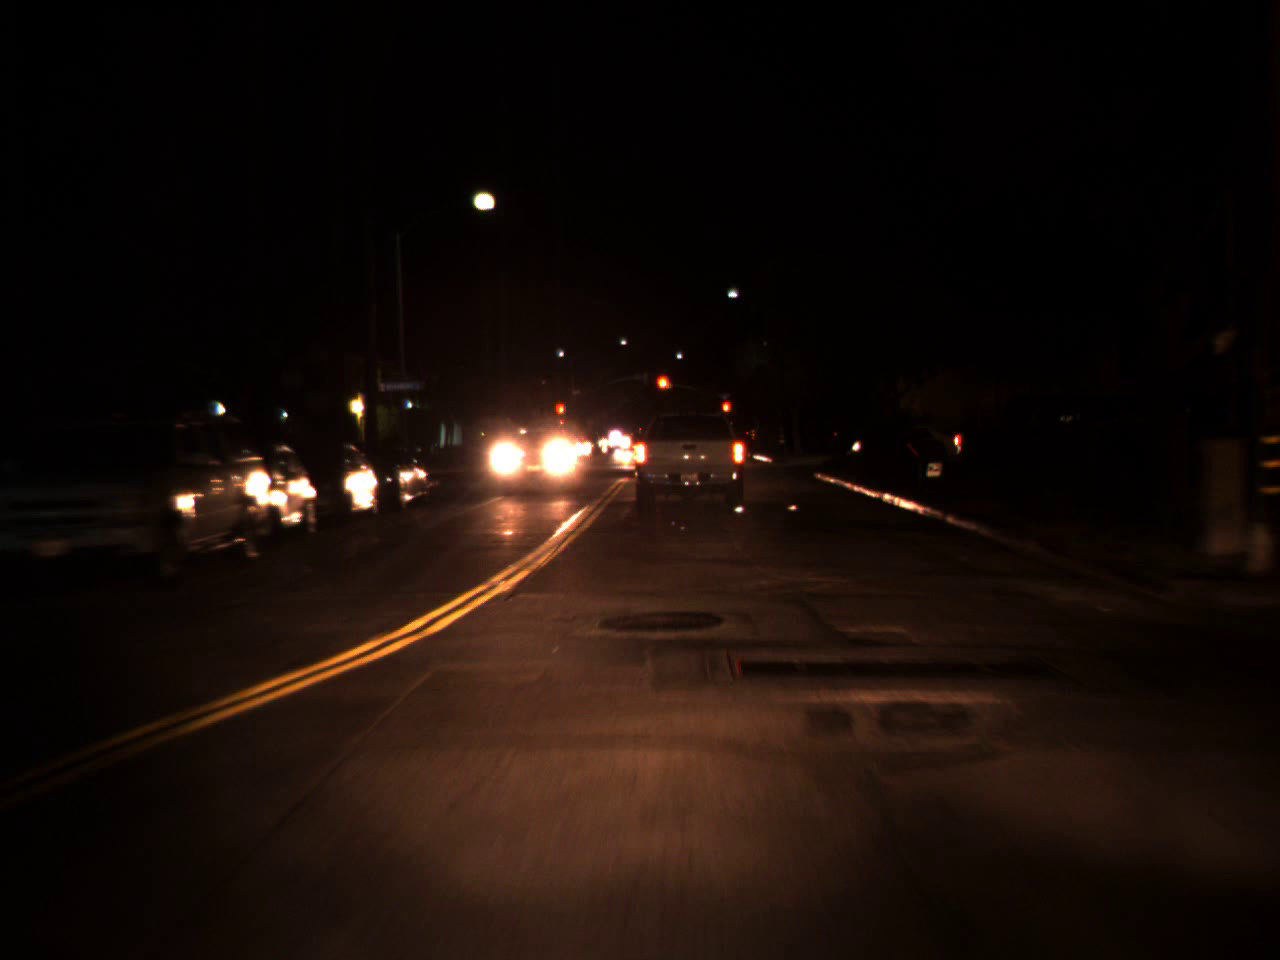stop: (655, 373, 671, 405), (553, 401, 566, 428), (721, 399, 731, 426)
